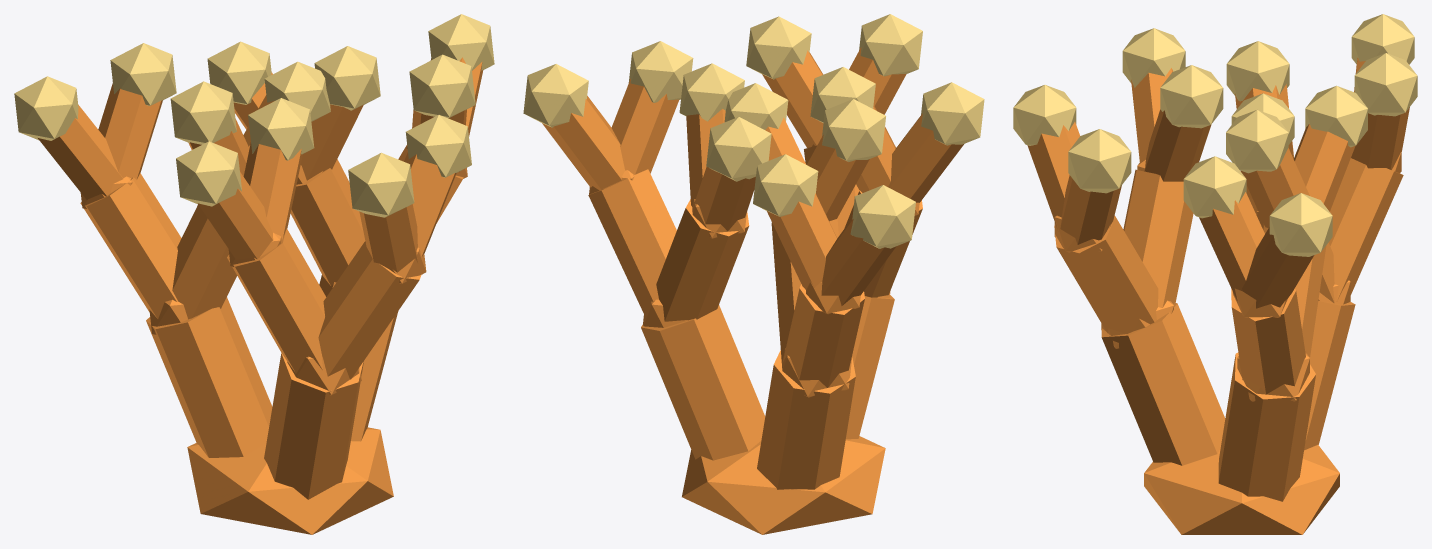
Rendered from coral-branch-orange.glb.
3 renders of one model, left to right at view 1: azimuth 30°, elevation 25°; view 2: azimuth 150°, elevation 25°; view 3: azimuth 270°, elevation 25°, orthographic.
Parts seen in each view (by area): view 1: coral-branch-orange; view 2: coral-branch-orange; view 3: coral-branch-orange.
Part boxes in pixels (box(x1,y1,x2,y2)): coral-branch-orange: box(14, 14, 494, 534); coral-branch-orange: box(523, 14, 984, 534); coral-branch-orange: box(1013, 14, 1417, 534).
Size of the model in its own units: 1.5 by 1.5 by 1.23.
